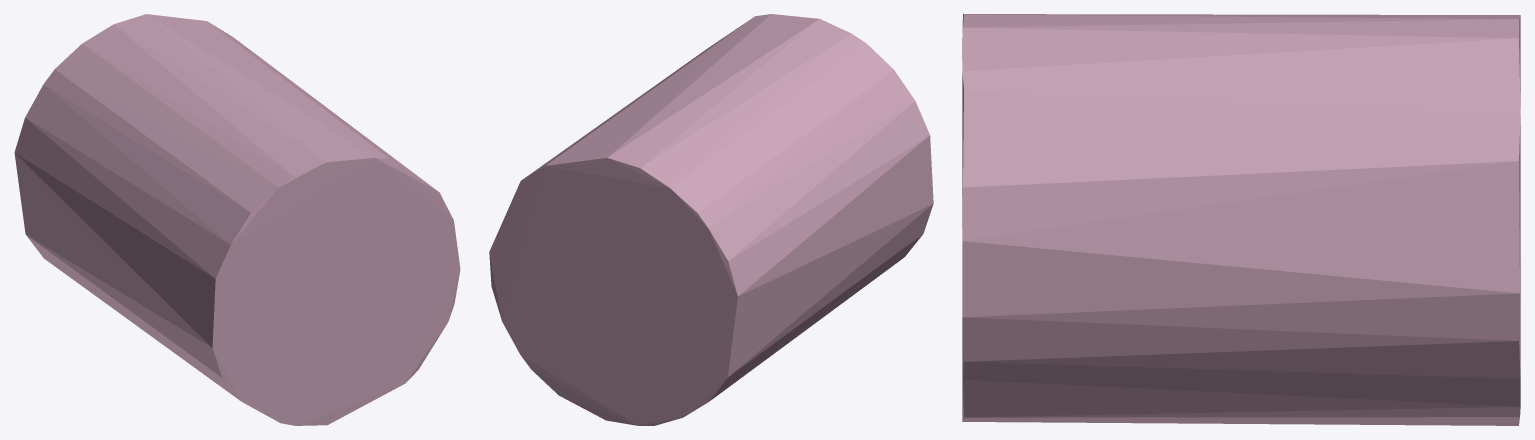
Rendered from food_processed_cannedFood_m01.glb.
3 views of the same model, side by side, from view 1: azimuth 30°, elevation 25°; view 2: azimuth 150°, elevation 25°; view 3: azimuth 270°, elevation 25° (orthographic). The views are drawn at different scales.
Parts seen in each view (by area): view 1: geometry_0; view 2: geometry_0; view 3: geometry_0.
Part boxes in pixels (box(x1,y1,x2,y2)): geometry_0: box(14, 14, 460, 425); geometry_0: box(489, 14, 933, 425); geometry_0: box(962, 14, 1520, 425).
Size of the model in its own units: 0.3502 by 0.354 by 0.48.
